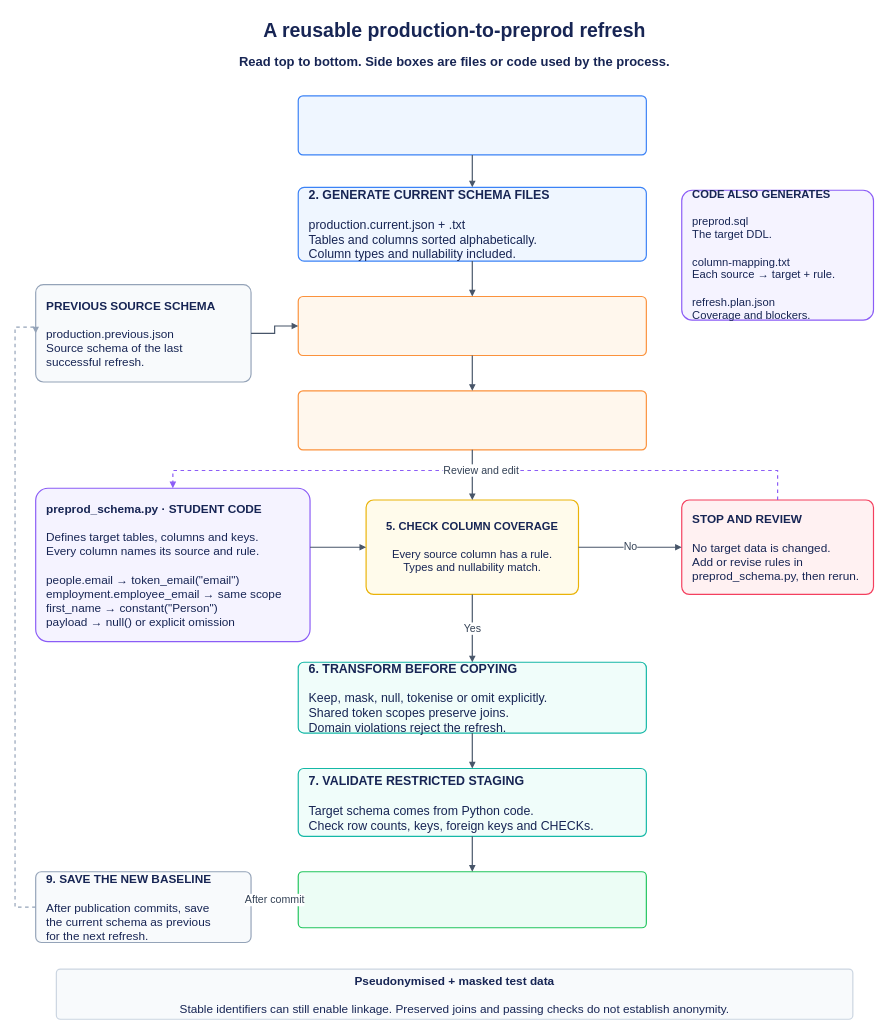
Some shapes in this 884 by 1030 pixel diagram are drawn without their labels. Here are the shapes that lost their labels. From the top down, the centre of each, then its label:
At (x=472, y=125): "1. READ PRODUCTION One read-only, consistent snapshot.".
At (x=472, y=326): "3. COMPARE WITH THE PREVIOUS FILE Find added, removed or changed definitions.".
At (x=472, y=420): "4. WRITE THE DIFF schema.diff.json Review what changed in production.".
At (x=472, y=899): "8. ATOMICALLY PUBLISH PREPROD Failure rolls back and preserves the old clone.".
